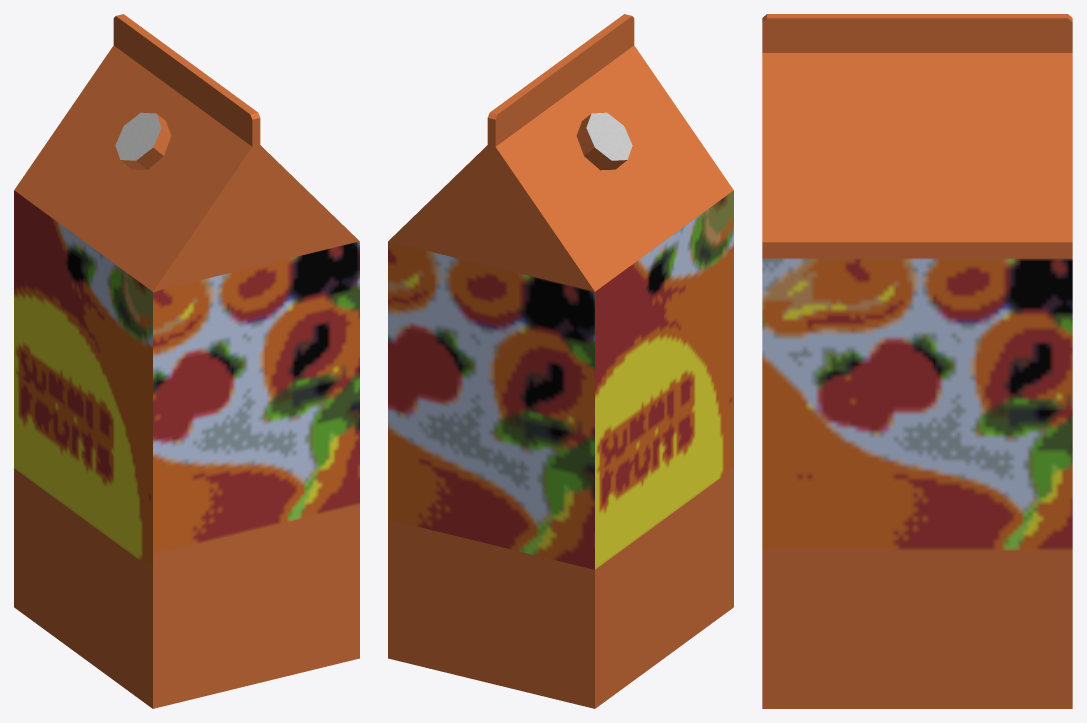
Rendered from Fruit Juice.fbx.
3 renders of one model, left to right at view 1: azimuth 30°, elevation 25°; view 2: azimuth 150°, elevation 25°; view 3: azimuth 270°, elevation 25°, orthographic. The views are drawn at different scales.
Parts seen in each view (by area): view 1: milk2; view 2: milk2; view 3: milk2.
Boxes of the visible parts, bbox=[...] form: milk2: bbox=[14, 14, 359, 708]; milk2: bbox=[388, 14, 733, 708]; milk2: bbox=[762, 14, 1072, 708].
Bounding box in the file's own units: 0.1286 × 0.3376 × 0.1493.
